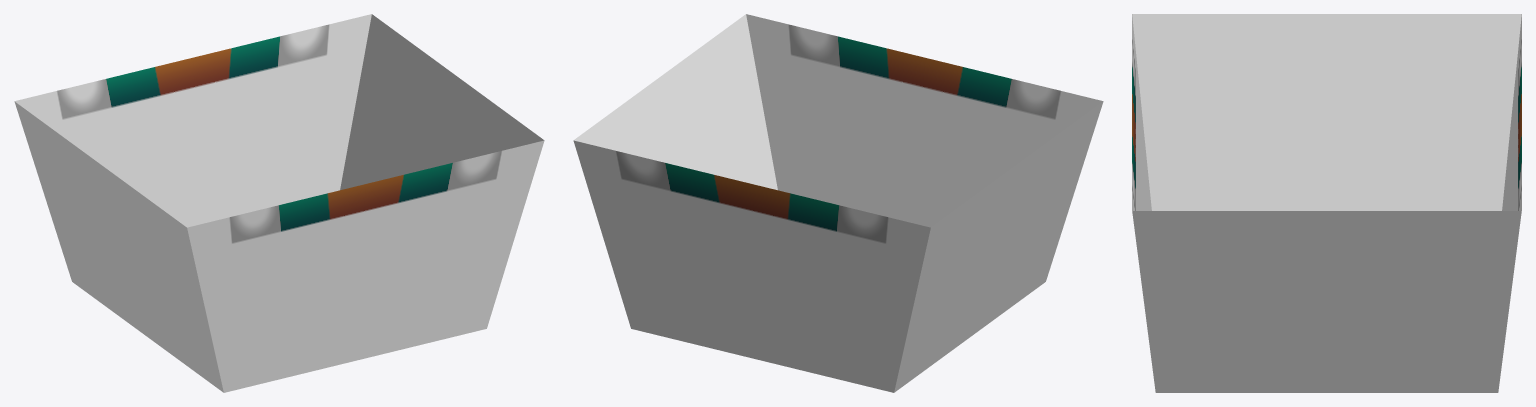
Rendered from ButtonShine.fbx.
3 views of the same model, side by side, from view 1: azimuth 30°, elevation 25°; view 2: azimuth 150°, elevation 25°; view 3: azimuth 270°, elevation 25° (orthographic). The views are drawn at different scales.
Parts seen in each view (by area): view 1: ButtonShine; view 2: ButtonShine; view 3: ButtonShine.
Part boxes in pixels (<box>): ButtonShine: <box>14,14,544,392</box>; ButtonShine: <box>573,14,1103,392</box>; ButtonShine: <box>1132,14,1521,392</box>.
Bounding box in the file's own units: 5.3 × 4.44 × 2.62.
